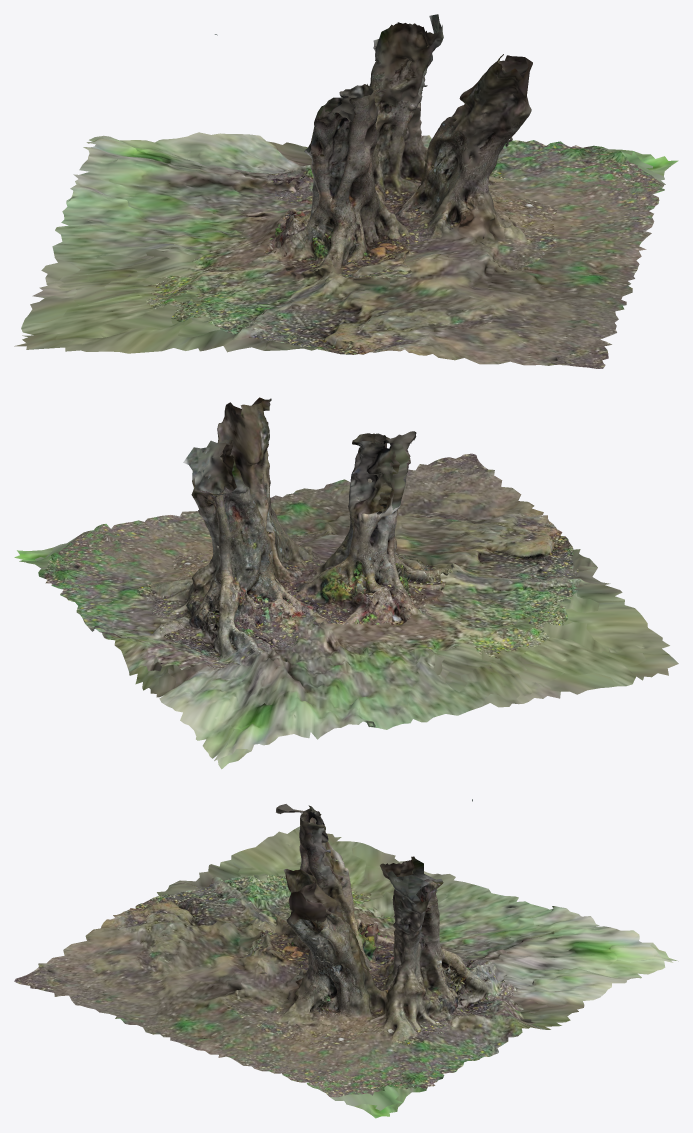
3 views of the same model, one above another, from view 1: azimuth 30°, elevation 25°; view 2: azimuth 150°, elevation 25°; view 3: azimuth 270°, elevation 25° (orthographic). The views are drawn at different scales.
Visible parts, largest first — view 1: map_a9cce072-7ba7-4dc6-be78-d201dfd7d9d3_densified_mesh_text; view 2: map_a9cce072-7ba7-4dc6-be78-d201dfd7d9d3_densified_mesh_text; view 3: map_a9cce072-7ba7-4dc6-be78-d201dfd7d9d3_densified_mesh_text.
Boxes of the visible parts, left/top/right/bottom form: map_a9cce072-7ba7-4dc6-be78-d201dfd7d9d3_densified_mesh_text: left=14, top=14, right=678, bottom=368; map_a9cce072-7ba7-4dc6-be78-d201dfd7d9d3_densified_mesh_text: left=14, top=397, right=678, bottom=769; map_a9cce072-7ba7-4dc6-be78-d201dfd7d9d3_densified_mesh_text: left=14, top=799, right=678, bottom=1118.
Bounding box in the file's own units: 7.76 × 2.12 × 7.67.
1 material, 1 textured.
